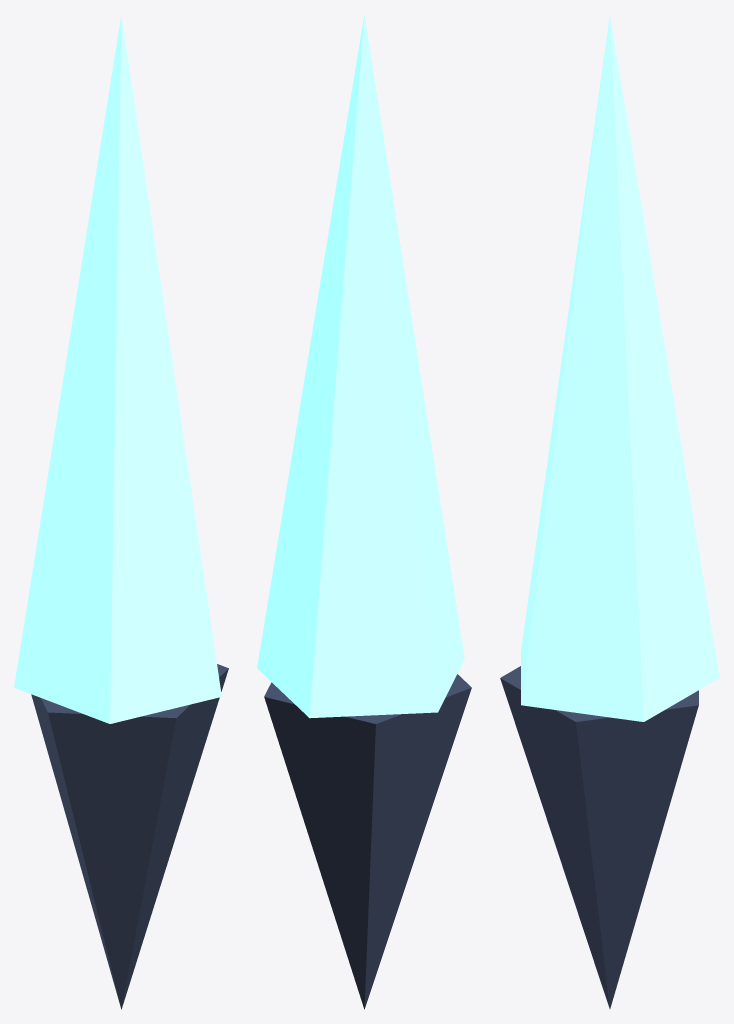
The model's file is Sky_OR_StormShard_00.glb.
3 renders of one model, left to right at view 1: azimuth 30°, elevation 25°; view 2: azimuth 150°, elevation 25°; view 3: azimuth 270°, elevation 25°, orthographic.
Parts seen in each view (by area): view 1: Sky_OR_StormShard_00; view 2: Sky_OR_StormShard_00; view 3: Sky_OR_StormShard_00.
Boxes of the visible parts, <box> form: Sky_OR_StormShard_00: <box>14,14,228,1009</box>; Sky_OR_StormShard_00: <box>257,14,471,1009</box>; Sky_OR_StormShard_00: <box>500,15,719,1008</box>.
Bounding box in the file's own units: 0.5706 × 3 × 0.6.
